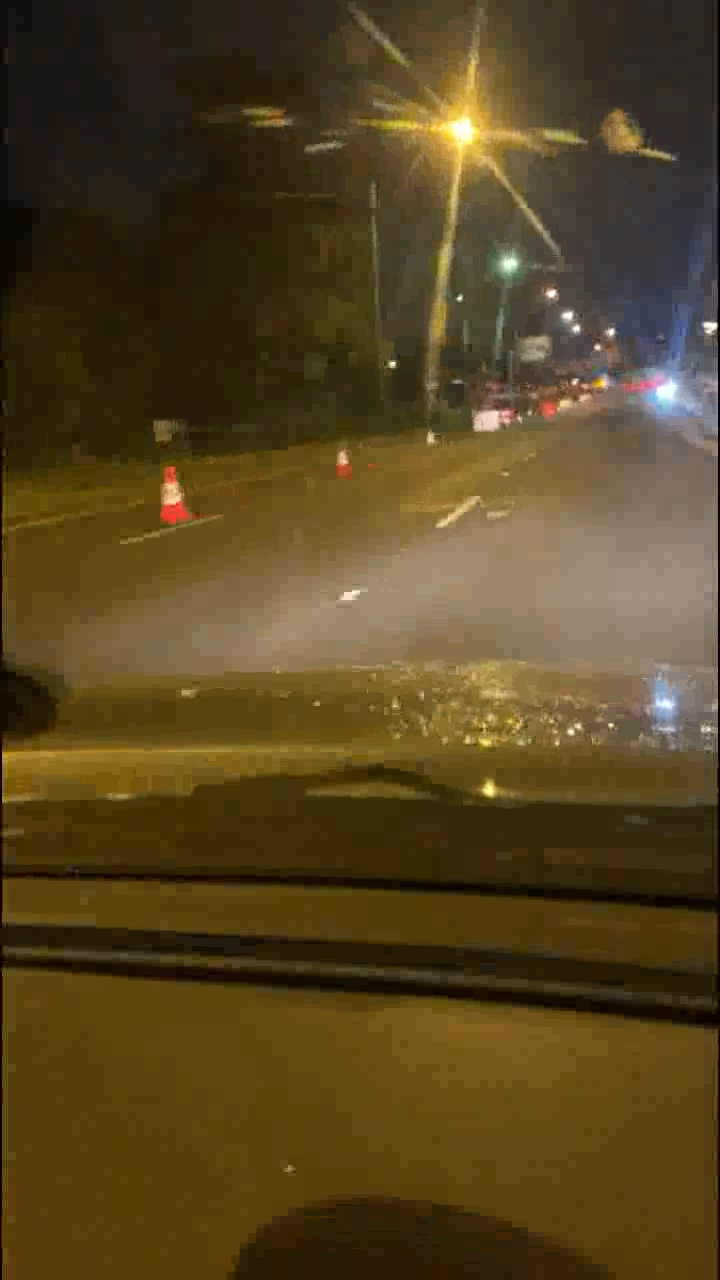road cone: (156, 469, 197, 523), (338, 446, 353, 482)
